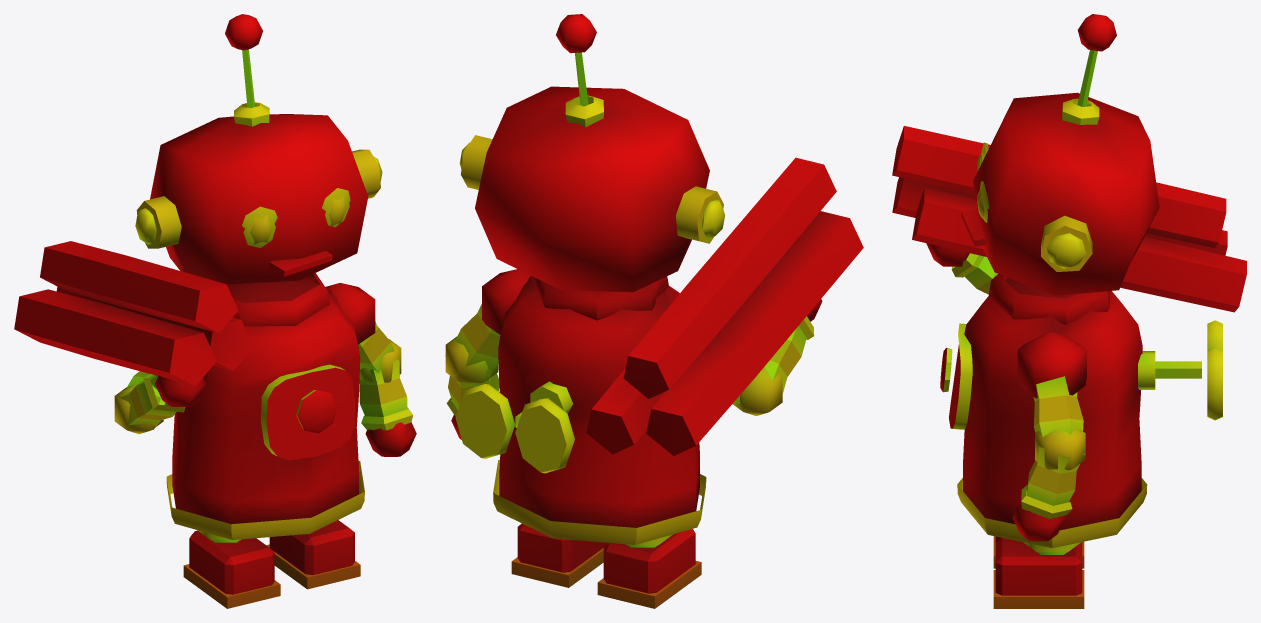
Rendered from RobotWorker_carry_wood_LOD1.glb.
3 views of the same model, side by side, from view 1: azimuth 30°, elevation 25°; view 2: azimuth 150°, elevation 25°; view 3: azimuth 270°, elevation 25° (orthographic). The views are drawn at different scales.
Parts seen in each view (by area): view 1: RobotWorker_carry_wood_LOD1; view 2: RobotWorker_carry_wood_LOD1; view 3: RobotWorker_carry_wood_LOD1.
Boxes of the visible parts, bbox=[...] form: RobotWorker_carry_wood_LOD1: bbox=[14, 14, 416, 608]; RobotWorker_carry_wood_LOD1: bbox=[445, 14, 863, 608]; RobotWorker_carry_wood_LOD1: bbox=[892, 14, 1246, 608].
Bounding box in the file's own units: 0.565 × 0.93 × 0.5336.
